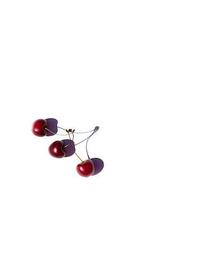cherry: (74, 159, 95, 177), (48, 140, 67, 157), (32, 119, 48, 137)
